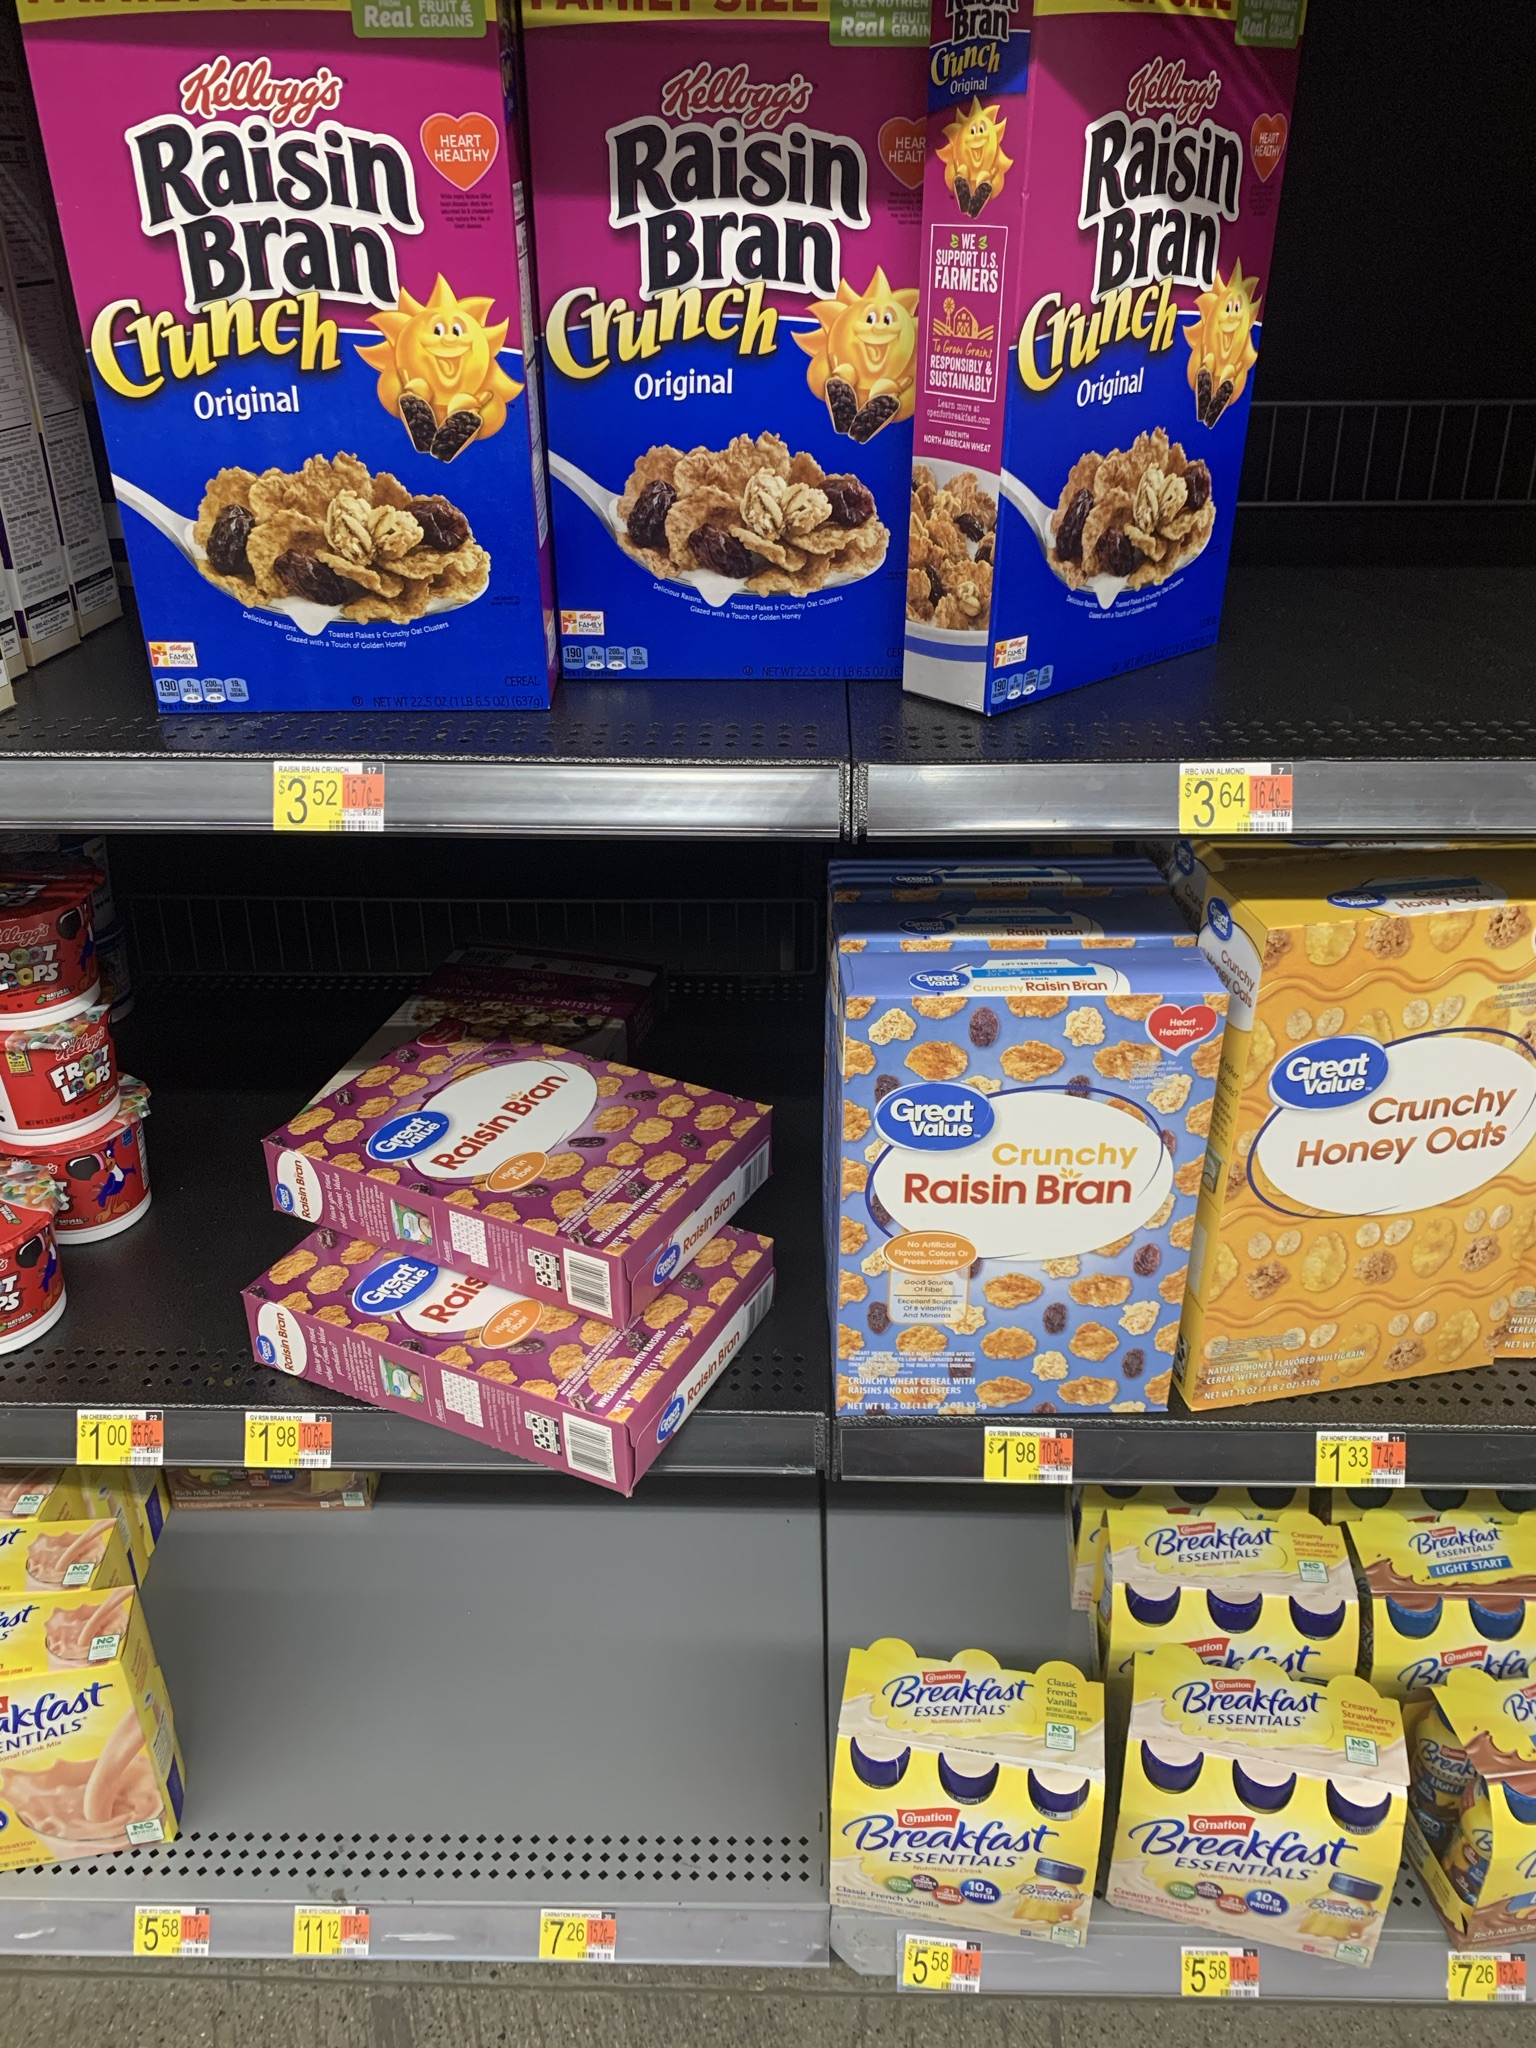box: (555, 26, 902, 674), (123, 35, 508, 614), (955, 23, 1225, 647), (879, 1009, 1165, 1400), (1254, 935, 1513, 1359)
